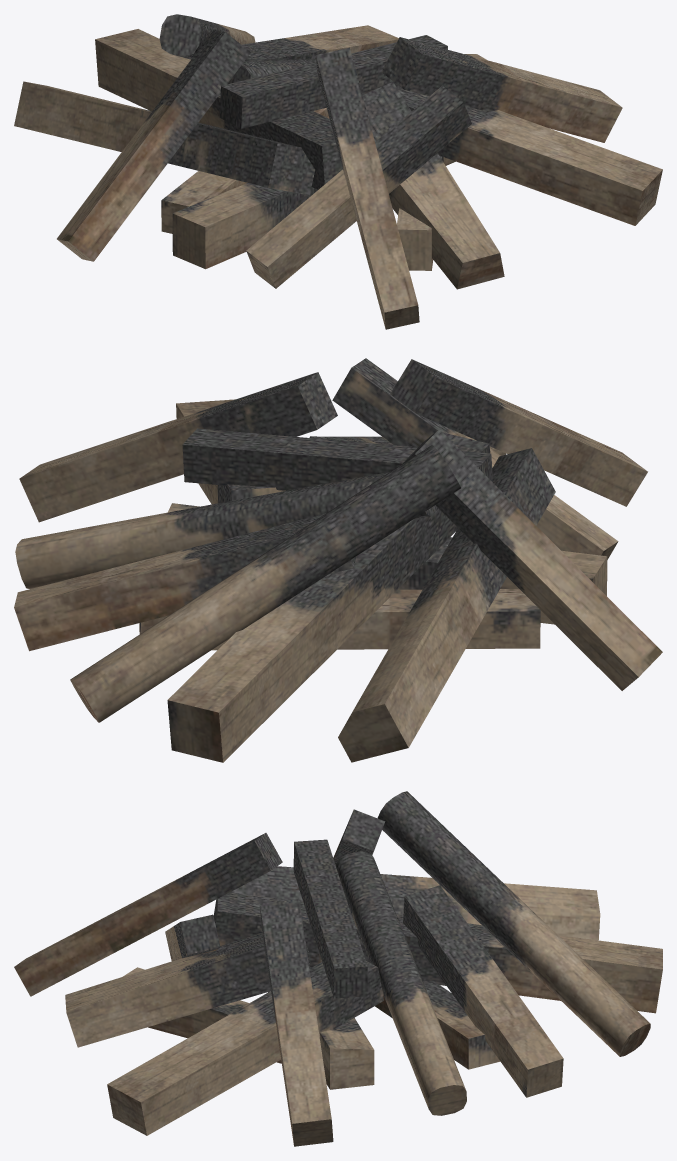
The model's file is SM_Fireplace.FBX.
3 renders of one model, top to bottom at view 1: azimuth 30°, elevation 25°; view 2: azimuth 150°, elevation 25°; view 3: azimuth 270°, elevation 25°, orthographic. The views are drawn at different scales.
Visible parts, largest first — view 1: SM_Fireplace; view 2: SM_Fireplace; view 3: SM_Fireplace.
Boxes of the visible parts, bbox=[...] form: SM_Fireplace: bbox=[14, 14, 662, 329]; SM_Fireplace: bbox=[14, 358, 662, 762]; SM_Fireplace: bbox=[14, 791, 662, 1146].
Size of the model in its own units: 81.26 by 27.83 by 86.44.
